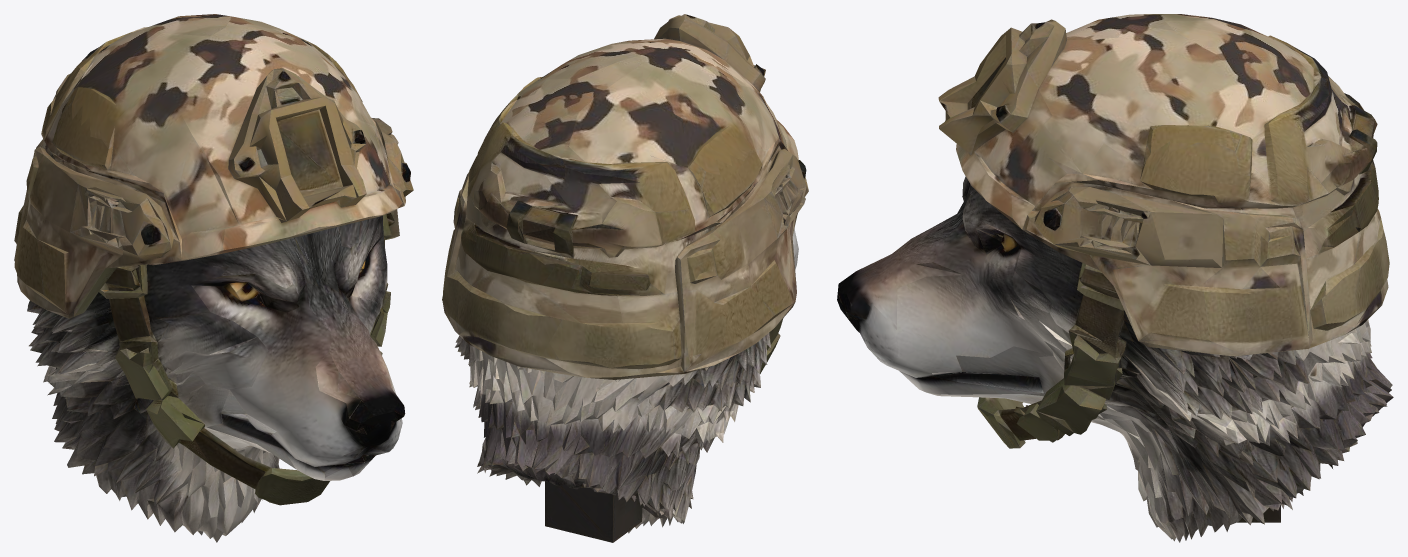
Rendered from hdWolf.a44af91023.glb.
3 views of the same model, side by side, from view 1: azimuth 30°, elevation 25°; view 2: azimuth 150°, elevation 25°; view 3: azimuth 270°, elevation 25° (orthographic). The views are drawn at different scales.
Size of the model in its own units: 1.27 by 1.9 by 1.84.
Materials: 1 (1 with a texture image).
